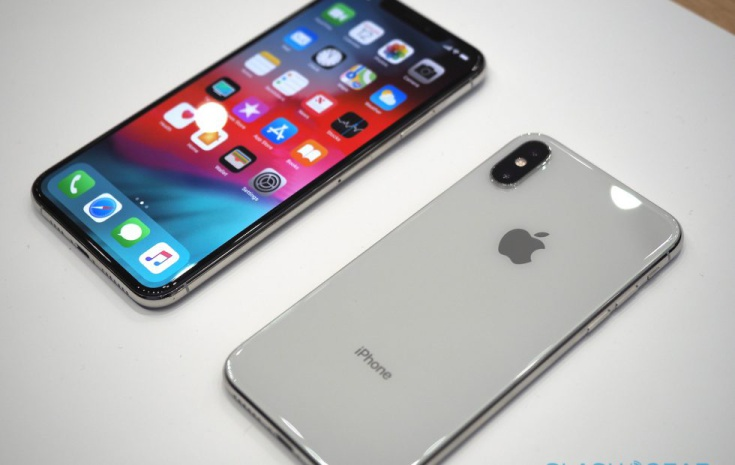apple: (489, 214, 555, 279)
